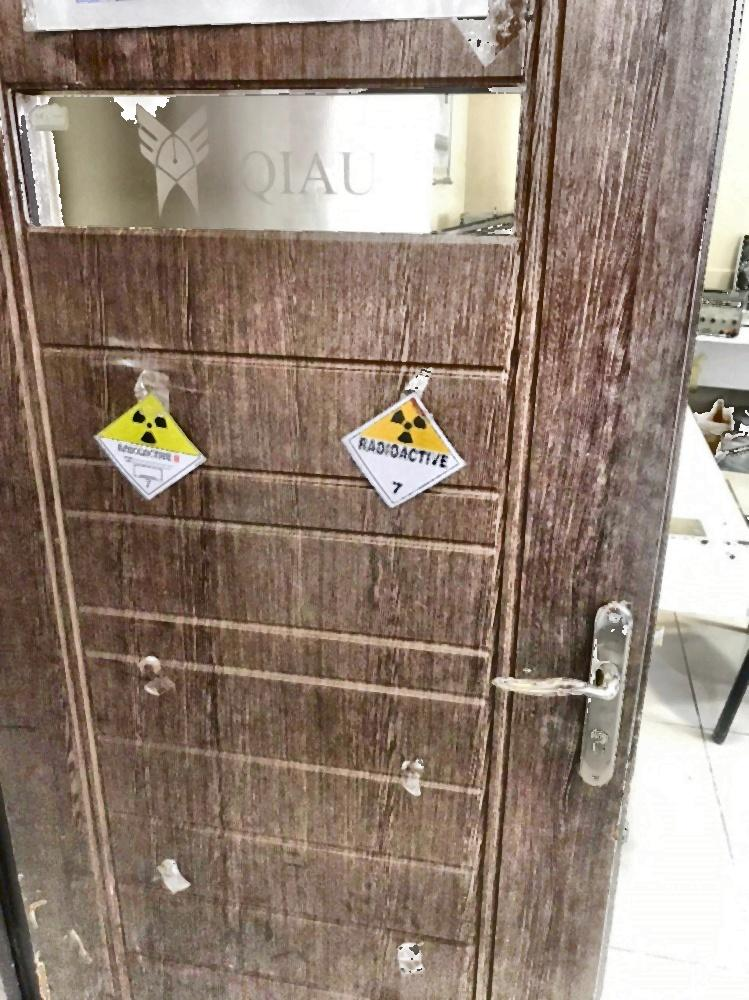radioactive: (339, 396, 473, 520), (92, 392, 213, 515)
